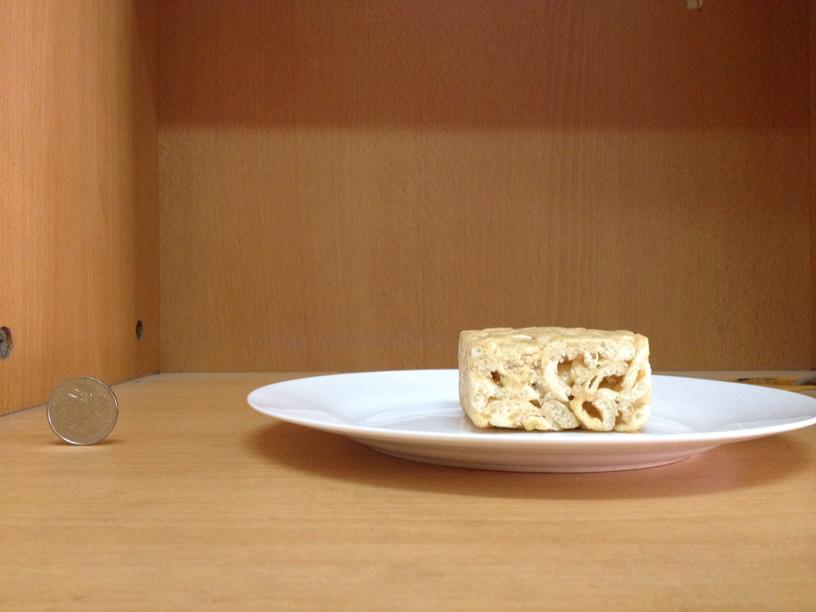coin: (40, 374, 120, 448)
sachima: (447, 318, 656, 430)
